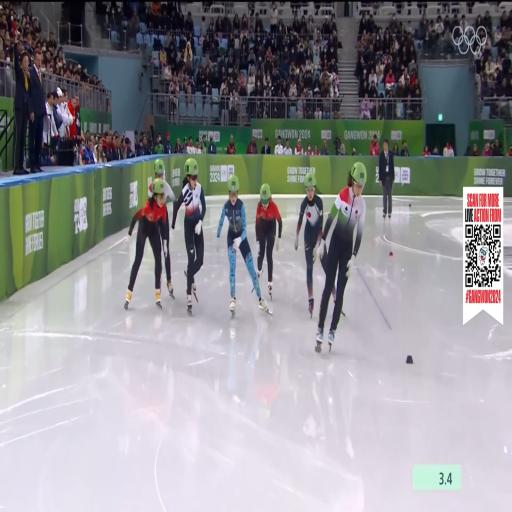Skater: (316, 162, 366, 351), (217, 175, 270, 317), (125, 179, 168, 309), (172, 158, 205, 314), (295, 173, 323, 316), (256, 184, 282, 298), (161, 219, 174, 297)
